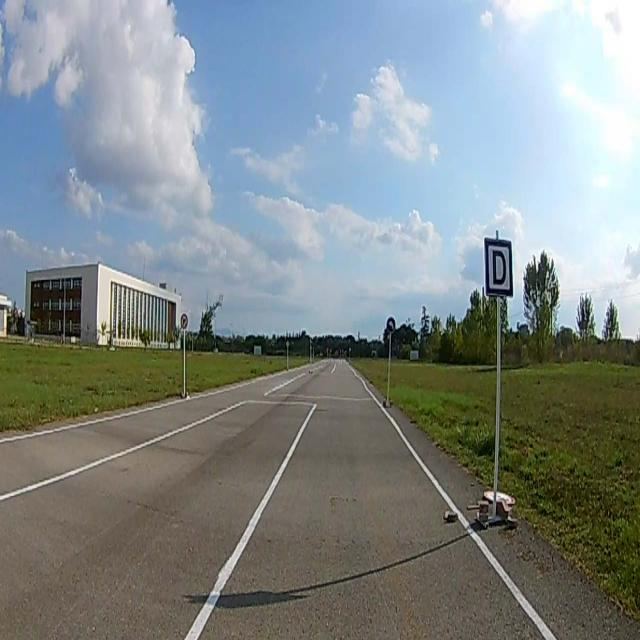durak: (483, 237, 512, 295)
sol: (386, 316, 396, 332)
